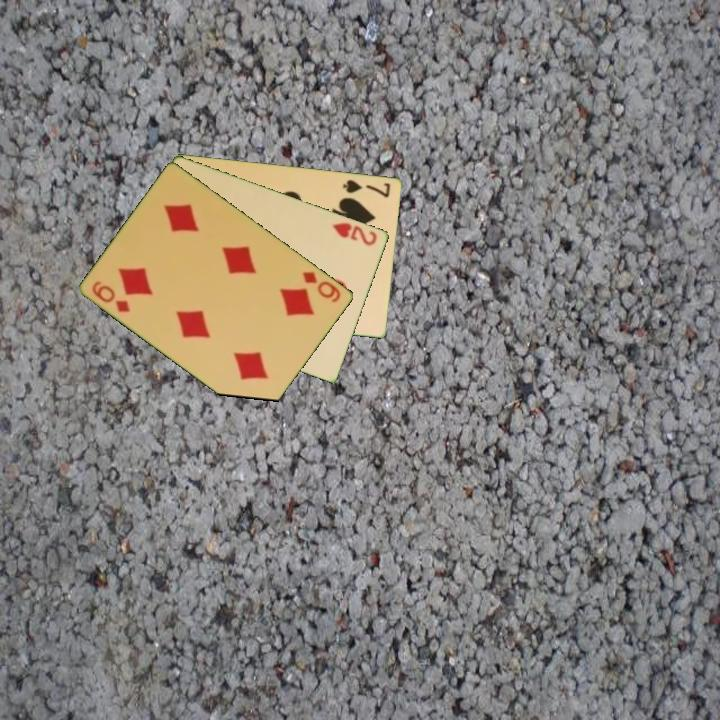2h: (329, 219, 380, 248)
6d: (299, 268, 344, 306), (89, 277, 134, 315)
7s: (340, 176, 393, 200)
